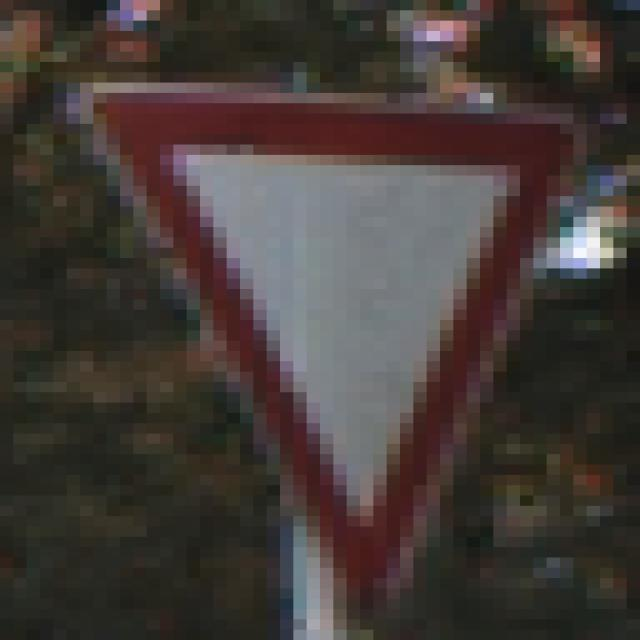Give Way: (68, 63, 561, 589)
